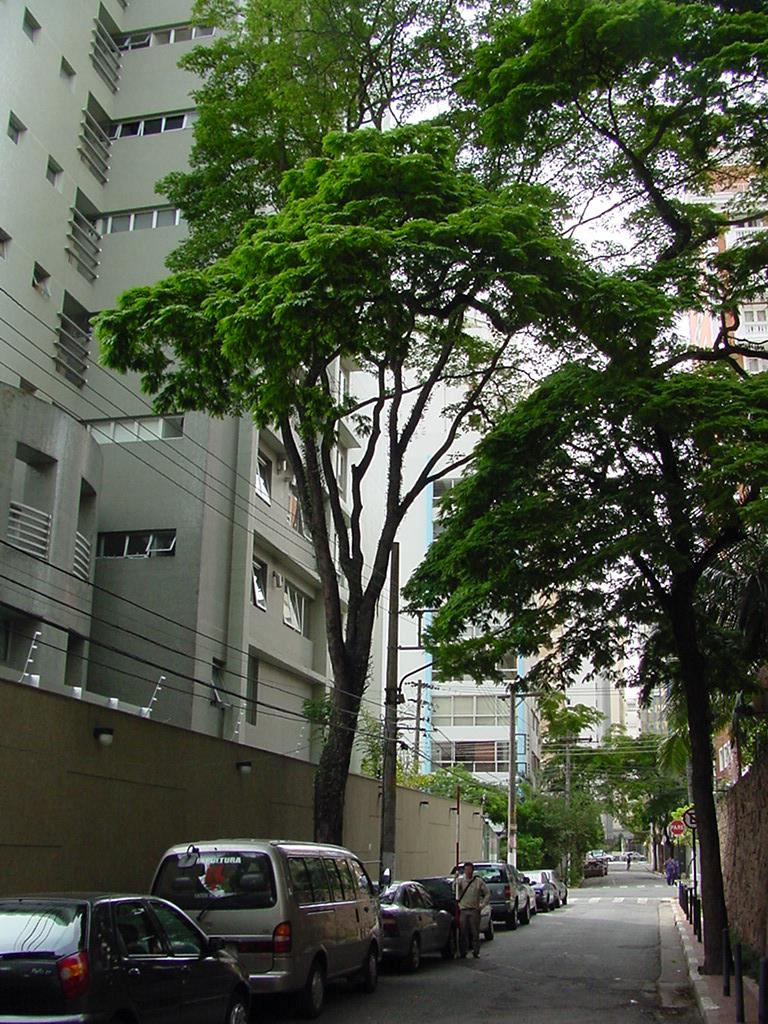crown: (96, 118, 662, 438)
stem: (286, 747, 372, 967)
stick: (446, 783, 469, 962)
tree: (92, 115, 662, 967)
